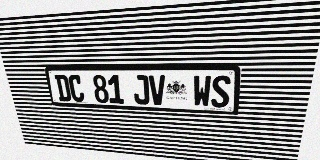1: (107, 75, 124, 104)
8: (92, 75, 109, 103)
C: (68, 75, 85, 102)
D: (54, 75, 72, 102)
J: (132, 75, 150, 105)
S: (211, 75, 231, 108)
V: (149, 75, 166, 105)
W: (193, 75, 211, 107)
